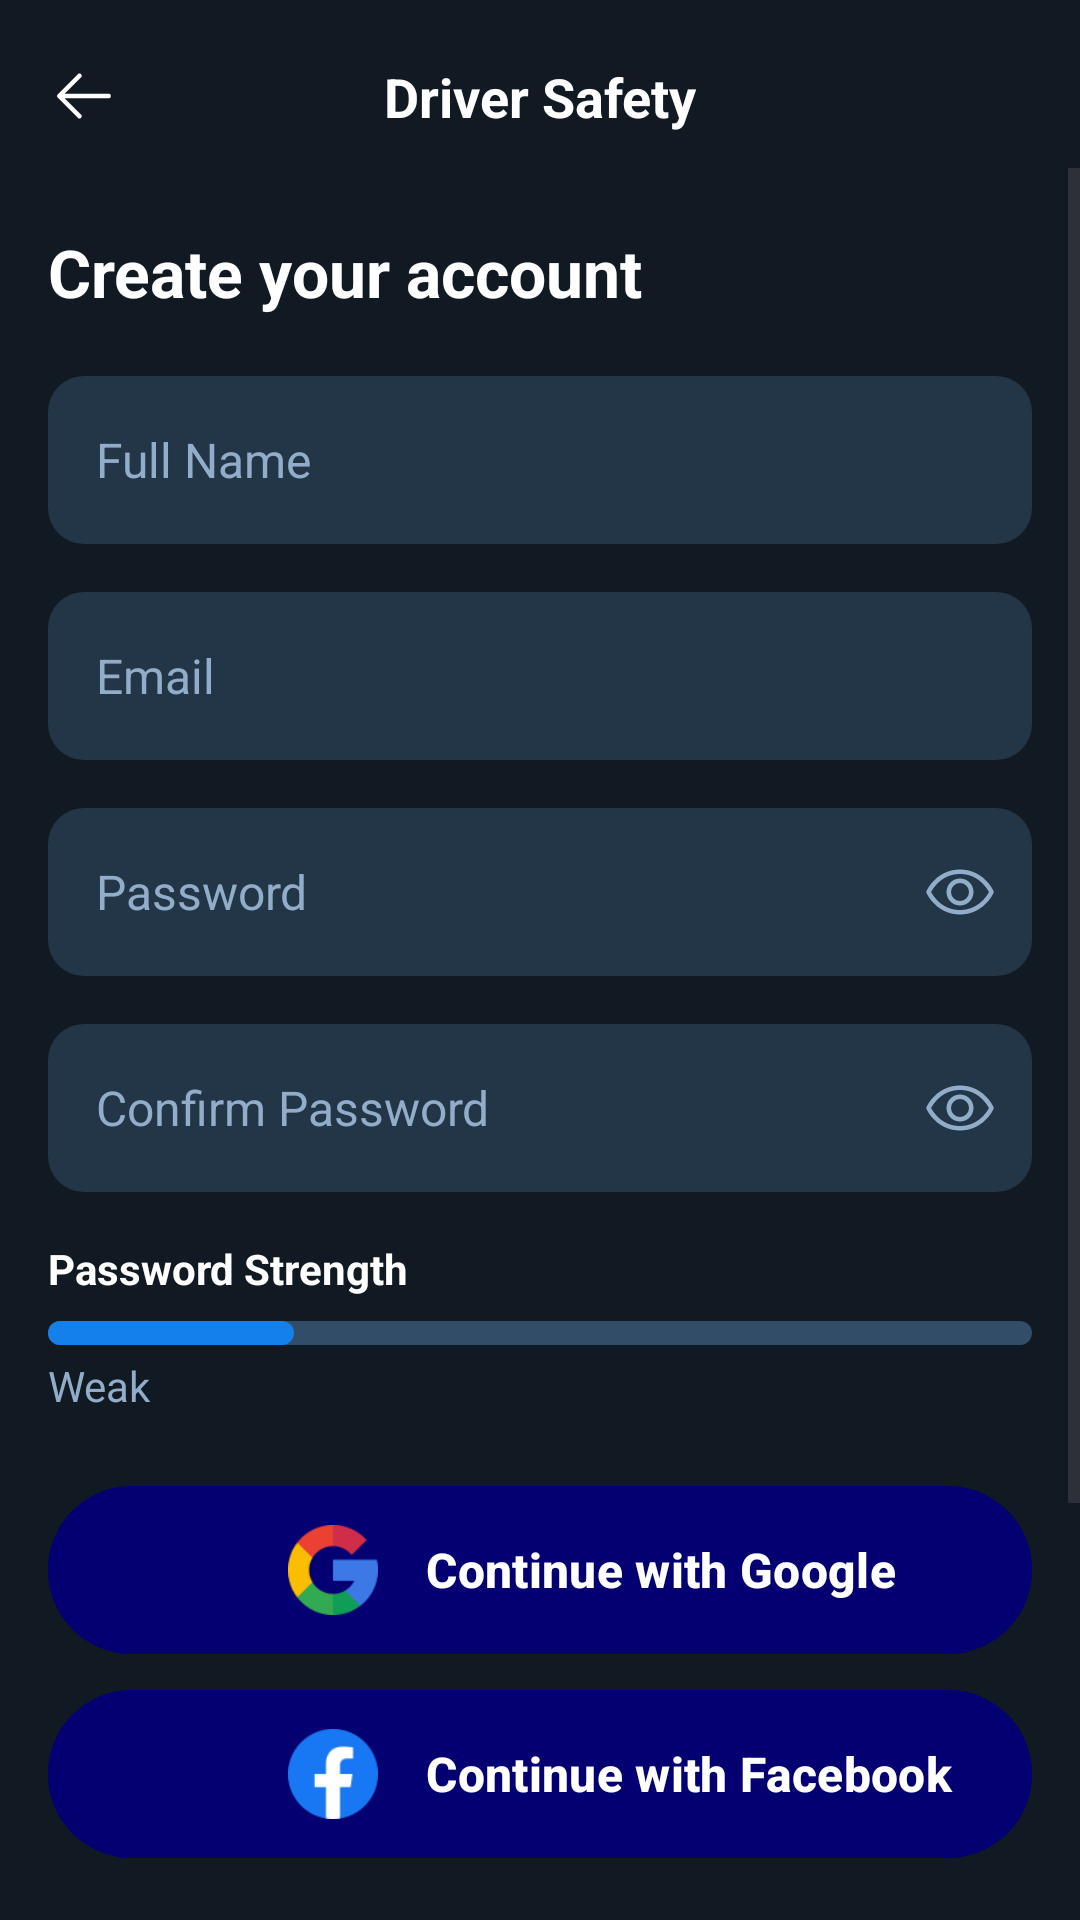

Named icons in this screenshot (1080*1920) and their centers, [x,y]:
Go Back: [84,96]
